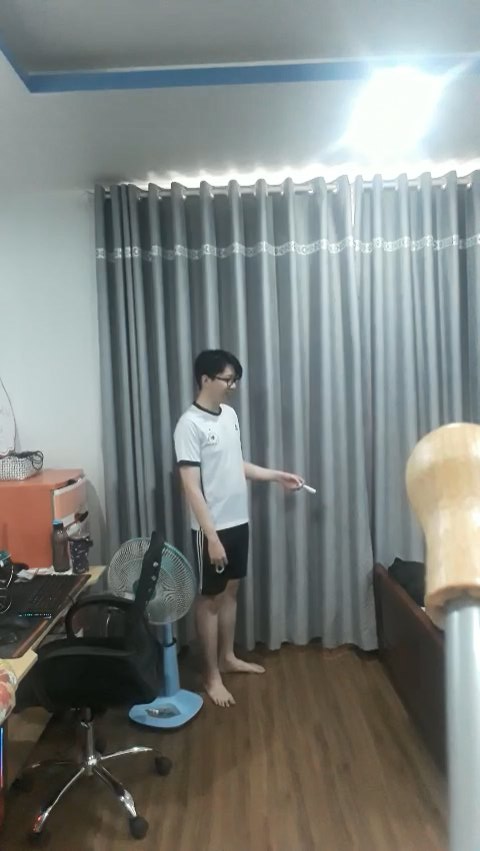cigarette: (302, 483, 318, 496)
person: (179, 348, 272, 711)
